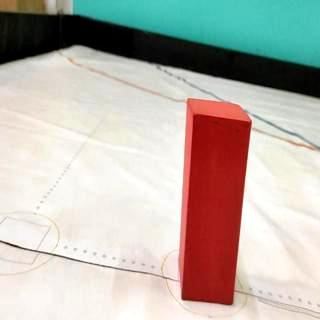redbox: (179, 97, 252, 306)
